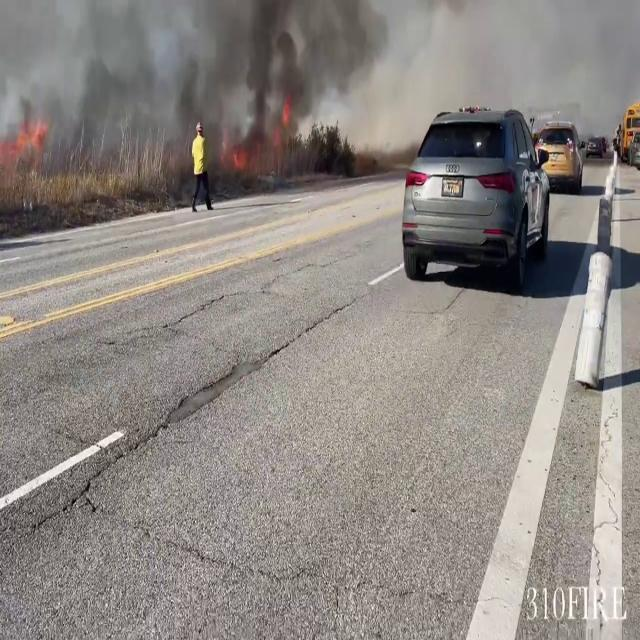Fire: (10, 108, 42, 171)
Smoke: (2, 0, 396, 155)
